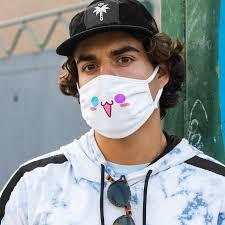cap: (51, 0, 177, 53)
mask: (76, 73, 164, 148)
